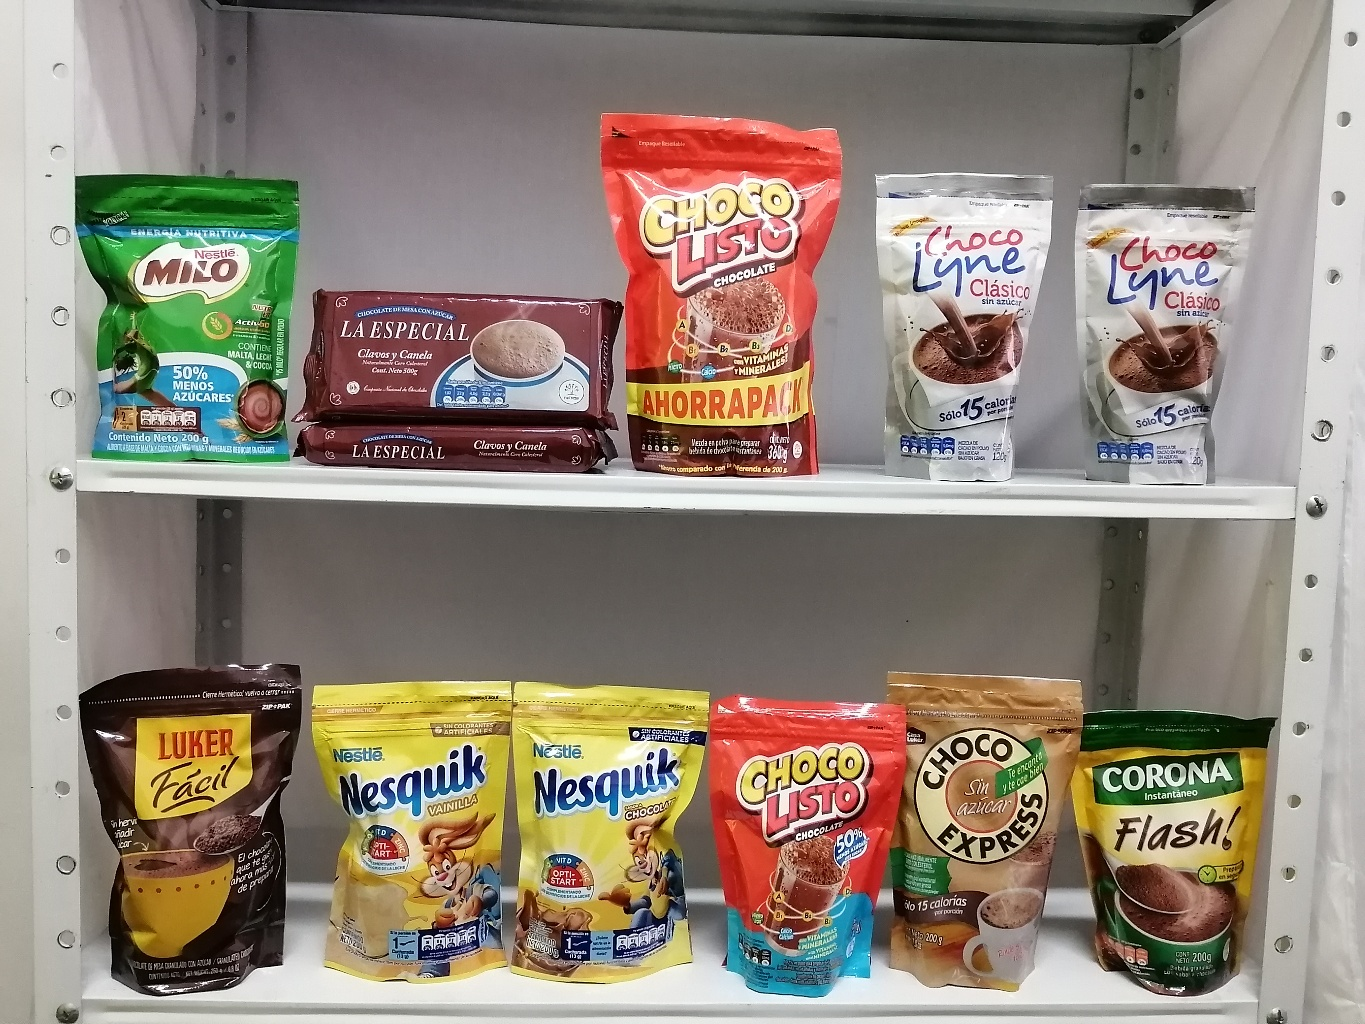COL0170103DYP36000: (607, 102, 849, 477)
COL0170104DYP20000: (703, 695, 908, 994)
COL0170205DYP20000: (69, 163, 296, 467)
COL0170303DYP20000: (507, 675, 716, 992)
COL0170306DYP20000: (311, 671, 516, 983)
